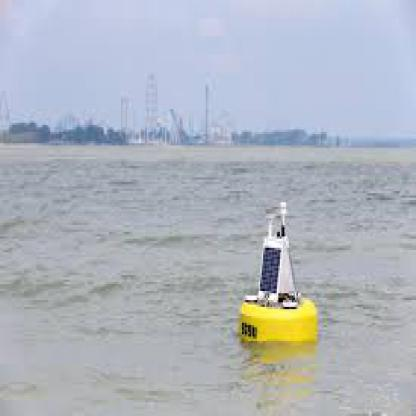buoy: (228, 200, 320, 350)
